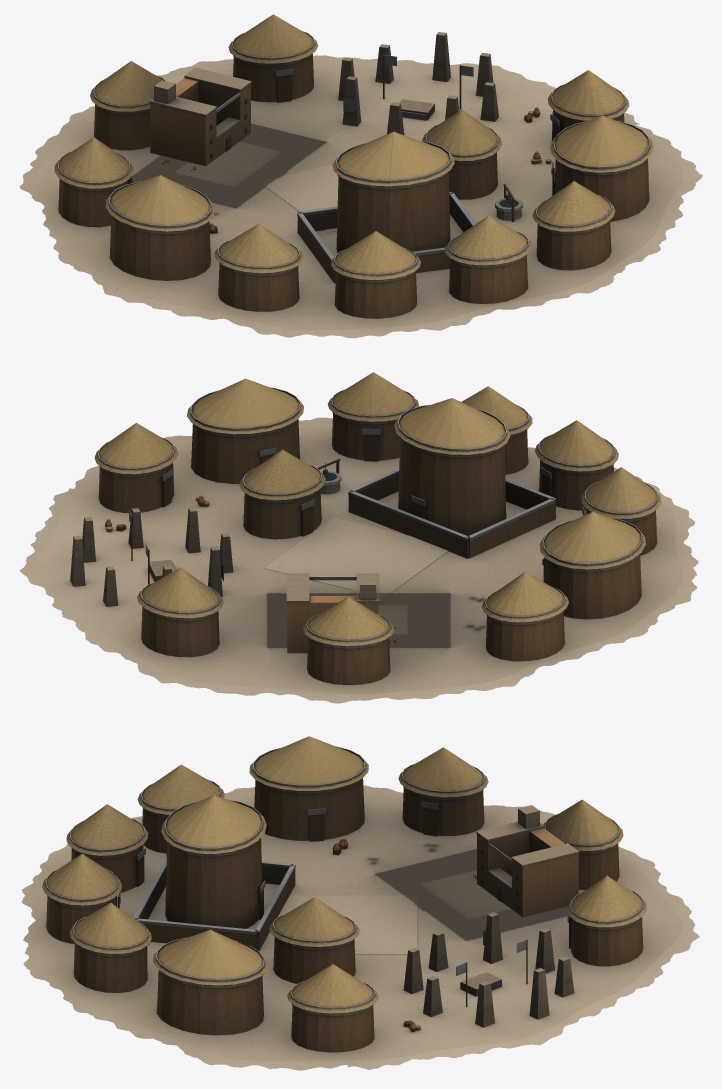
The model's file is bronze-town-medium-a-maghreb-6e4d9eae.glb.
The picture shows the model from 3 angles, top to bottom: view 1: azimuth 30°, elevation 25°; view 2: azimuth 150°, elevation 25°; view 3: azimuth 270°, elevation 25°; orthographic projection.
Visible parts, largest first — view 1: LOD0; view 2: LOD0; view 3: LOD0.
Part boxes in pixels (<box>): LOD0: <box>19,14,702,338</box>; LOD0: <box>20,372,698,703</box>; LOD0: <box>21,736,699,1070</box>.
Size of what is drawn, in the model's own units: 5.93 by 1.14 by 5.98.
Materials: 3 (3 with a texture image).
